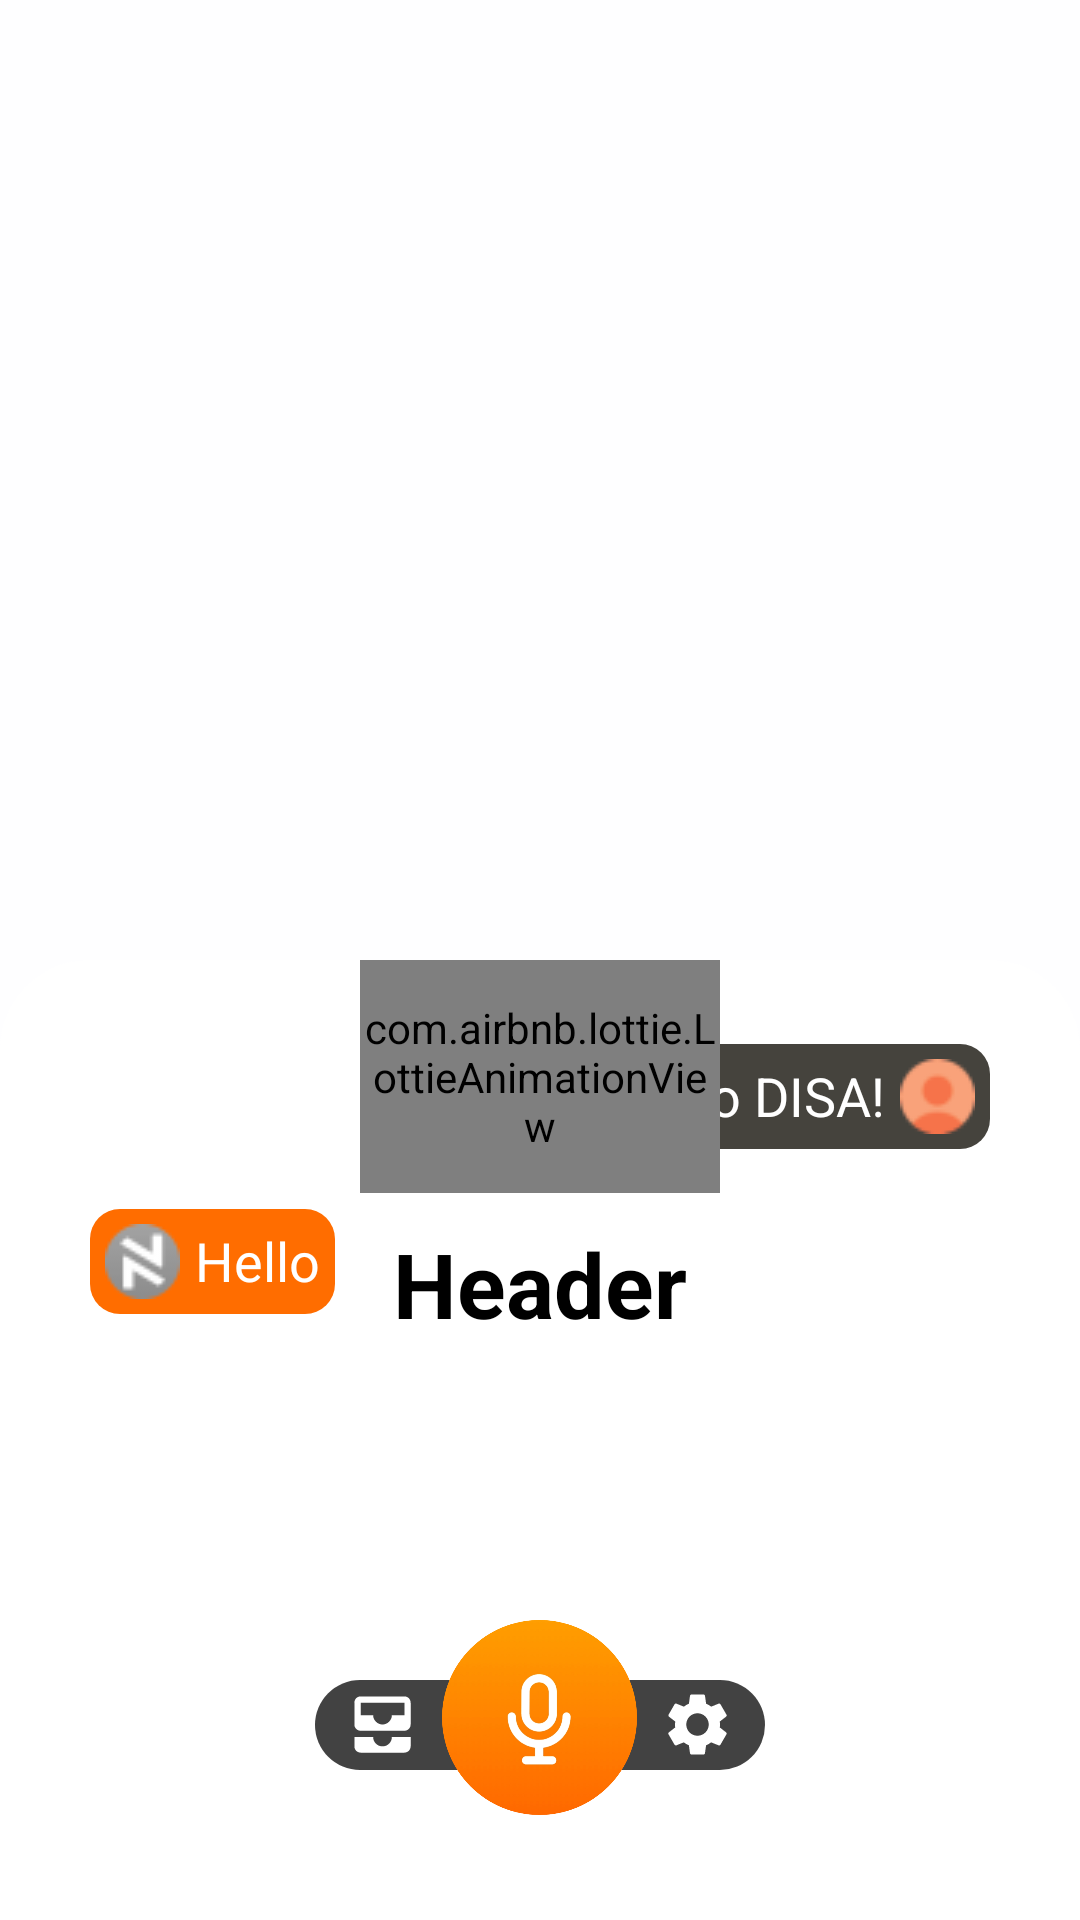

Point at icon controls on the screen. Image size 1080 x 1920, points as (x=x, y=y).
boximg: (x=382, y=1724)
saybtn: (x=539, y=1717)
setimg: (x=697, y=1724)
